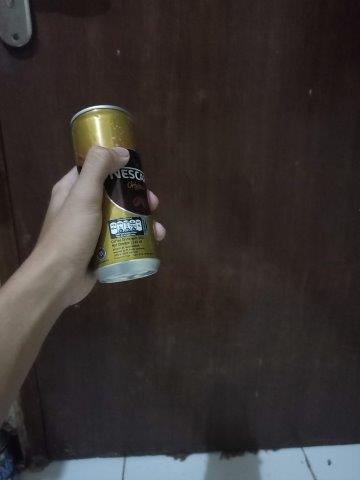kaleng: (71, 104, 159, 284)
